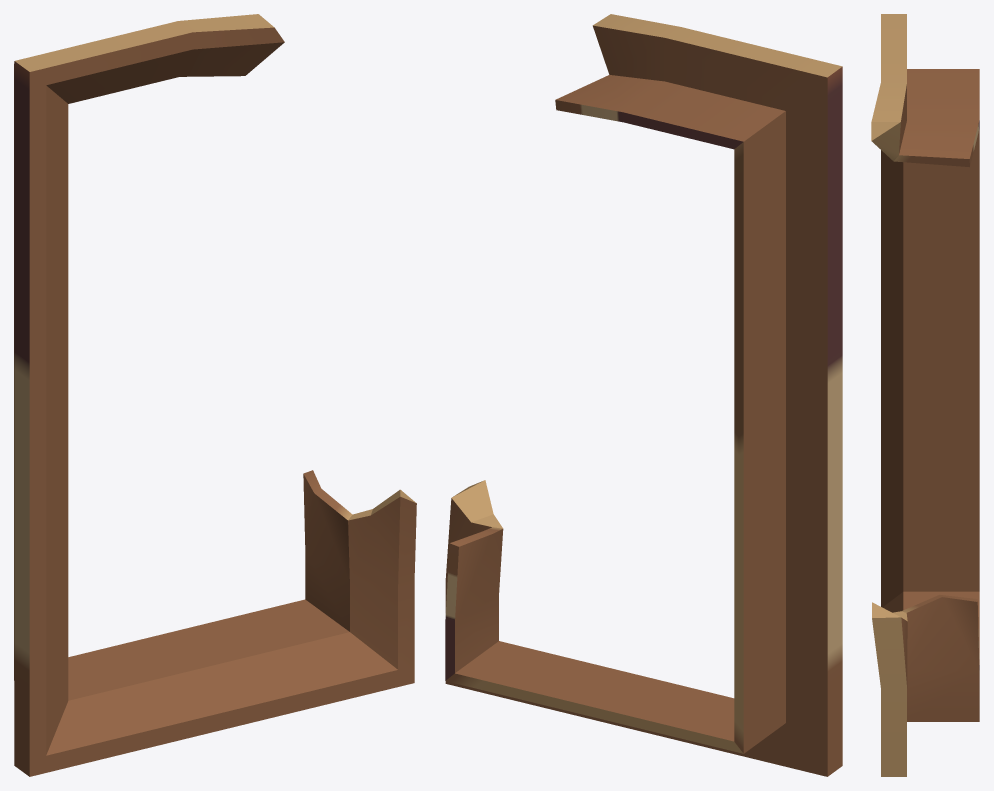
File: DBK_WinSmall_Trim_C_90.fbx
3 renders of one model, left to right at view 1: azimuth 30°, elevation 25°; view 2: azimuth 150°, elevation 25°; view 3: azimuth 270°, elevation 25°, orthographic. The views are drawn at different scales.
Visible parts, largest first — view 1: DBK_WinSmall_Trim_C_90; view 2: DBK_WinSmall_Trim_C_90; view 3: DBK_WinSmall_Trim_C_90.
Boxes of the visible parts, x1,y1,x2,y2 form: DBK_WinSmall_Trim_C_90: (14,14,416,776); DBK_WinSmall_Trim_C_90: (445,14,842,776); DBK_WinSmall_Trim_C_90: (871,14,979,776).
Size of the model in its own units: 80 by 140 by 22.78.
